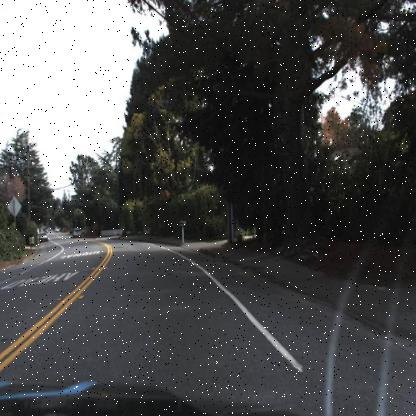car: (69, 225, 82, 241), (72, 225, 83, 240)
